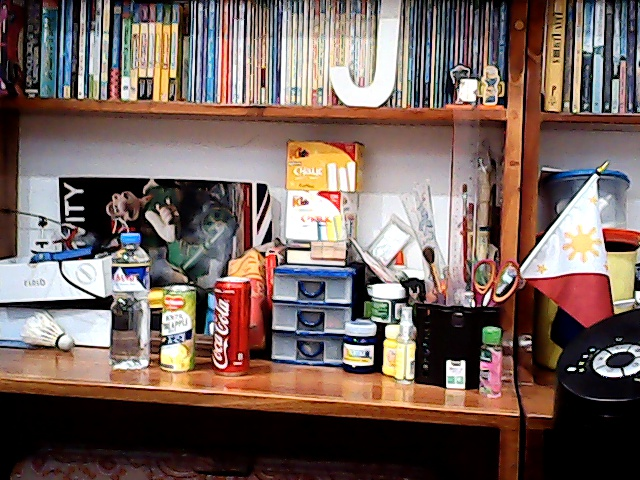Cola: (205, 273, 250, 377)
Pine Juice: (154, 283, 198, 378)
Summit Water: (104, 231, 151, 373)
